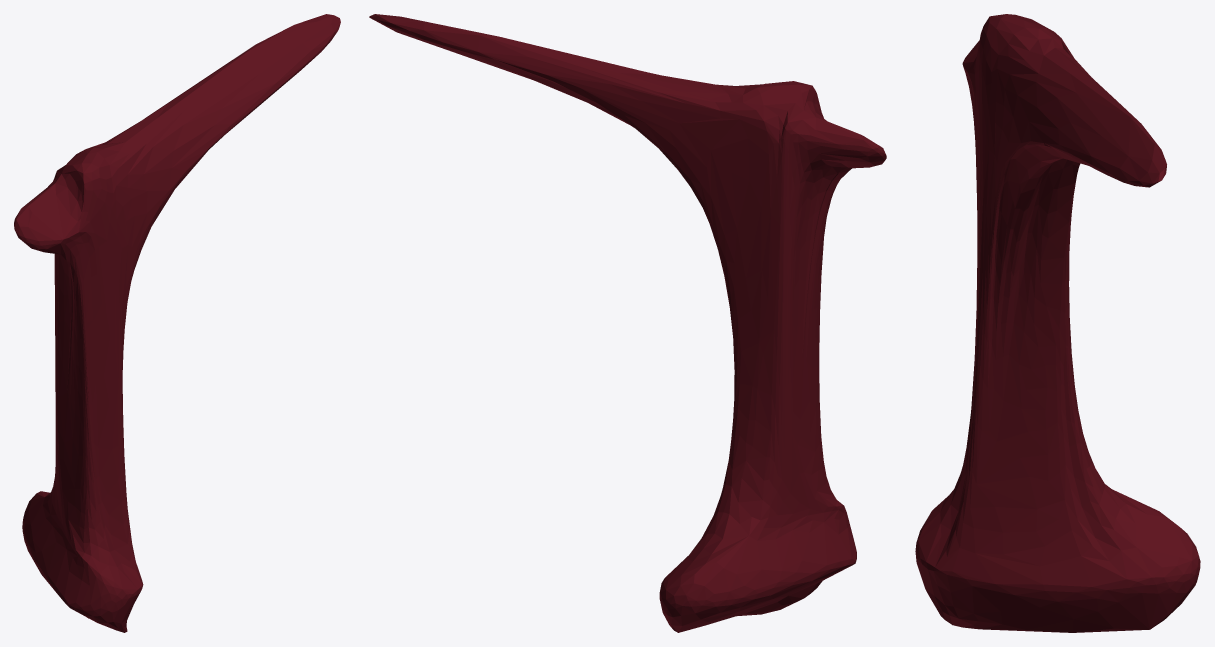
The picture shows the model from 3 angles, left to right: view 1: azimuth 30°, elevation 25°; view 2: azimuth 150°, elevation 25°; view 3: azimuth 270°, elevation 25°; orthographic projection. The views are drawn at different scales.
Parts seen in each view (by area): view 1: 502_Cube.2030; view 2: 502_Cube.2030; view 3: 502_Cube.2030.
Part boxes in pixels (box(x1,y1,x2,y2)): 502_Cube.2030: box(14, 14, 340, 632); 502_Cube.2030: box(369, 14, 886, 632); 502_Cube.2030: box(915, 14, 1200, 632).
Size of the model in its own units: 10.81 by 13.07 by 5.31.
